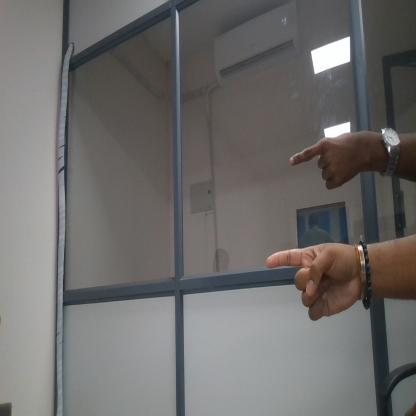Right: (255, 232, 386, 324), (282, 126, 381, 211)
